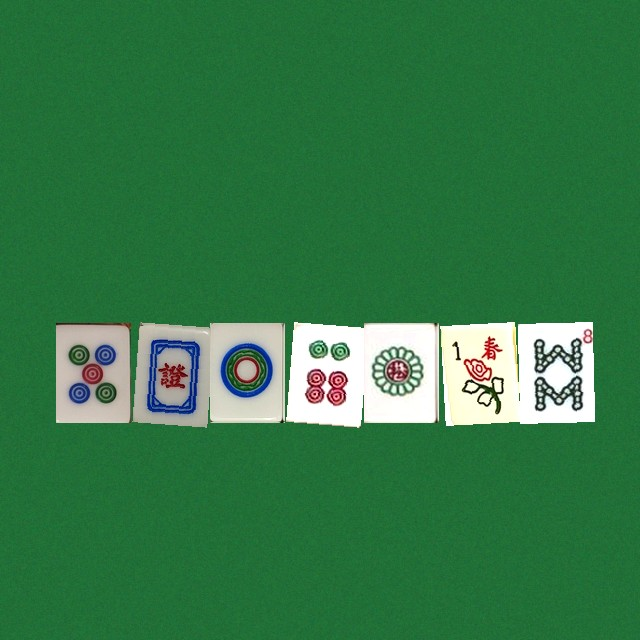tile: (55, 322, 130, 422), (132, 322, 207, 422), (209, 322, 284, 422), (286, 322, 361, 422), (363, 322, 438, 422), (440, 322, 515, 422), (517, 322, 592, 422)
